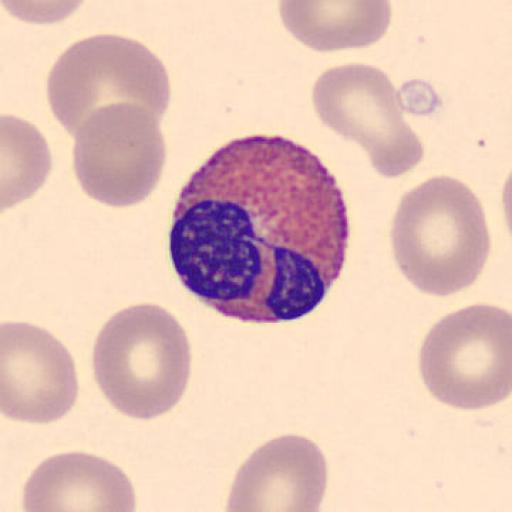RBC: (46, 32, 172, 141), (309, 63, 425, 180), (388, 173, 492, 298), (89, 300, 193, 422), (416, 301, 512, 412), (71, 100, 167, 210), (224, 431, 329, 512), (2, 320, 80, 426), (20, 448, 137, 512), (277, 0, 394, 54), (1, 112, 54, 211), (2, 0, 89, 25), (500, 162, 512, 244)
WBC: (166, 129, 353, 324)
